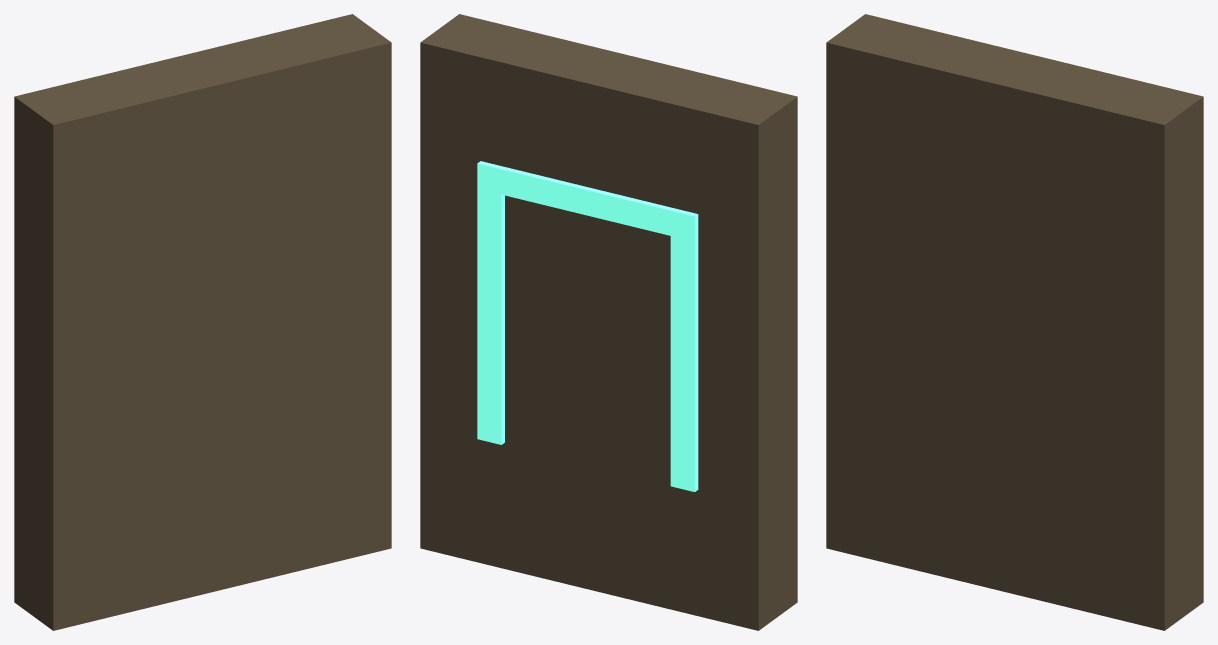
Rendered from glyph_gate.glb.
The picture shows the model from 3 angles, left to right: view 1: azimuth 30°, elevation 25°; view 2: azimuth 150°, elevation 25°; view 3: azimuth 330°, elevation 25°; orthographic projection.
Visible parts, largest first — view 1: GLYPH_Gate; view 2: GLYPH_Gate; view 3: GLYPH_Gate.
Part boxes in pixels (x1,y1,x2,y2): GLYPH_Gate: [14, 14, 391, 630]; GLYPH_Gate: [420, 14, 797, 630]; GLYPH_Gate: [826, 14, 1203, 630].
Bounding box in the file's own units: 0.7 × 1 × 0.152.
